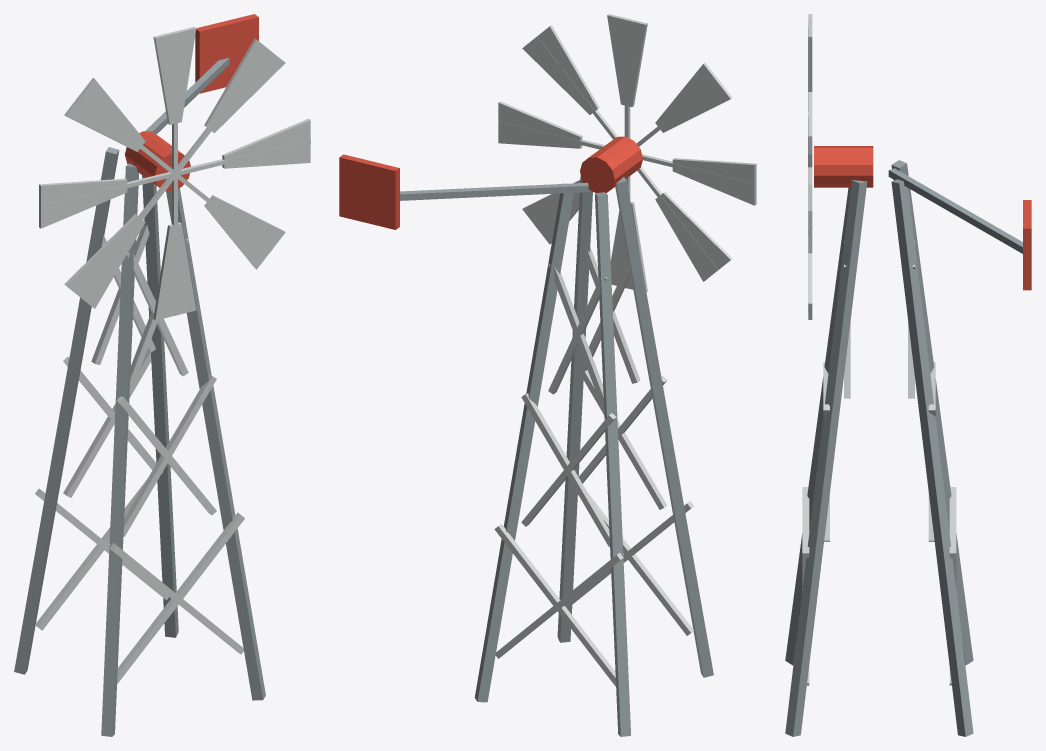
The model's file is TR3_Farm_Windmill.glb.
The picture shows the model from 3 angles, left to right: view 1: azimuth 30°, elevation 25°; view 2: azimuth 150°, elevation 25°; view 3: azimuth 270°, elevation 25°; orthographic projection. The views are drawn at different scales.
Visible parts, largest first — view 1: TR3_Farm_Windmill; view 2: TR3_Farm_Windmill; view 3: TR3_Farm_Windmill.
Boxes of the visible parts, bbox=[...] form: TR3_Farm_Windmill: bbox=[14, 14, 310, 736]; TR3_Farm_Windmill: bbox=[339, 14, 756, 736]; TR3_Farm_Windmill: bbox=[785, 14, 1031, 736].
Size of the model in its own units: 3.02 by 6.01 by 2.
